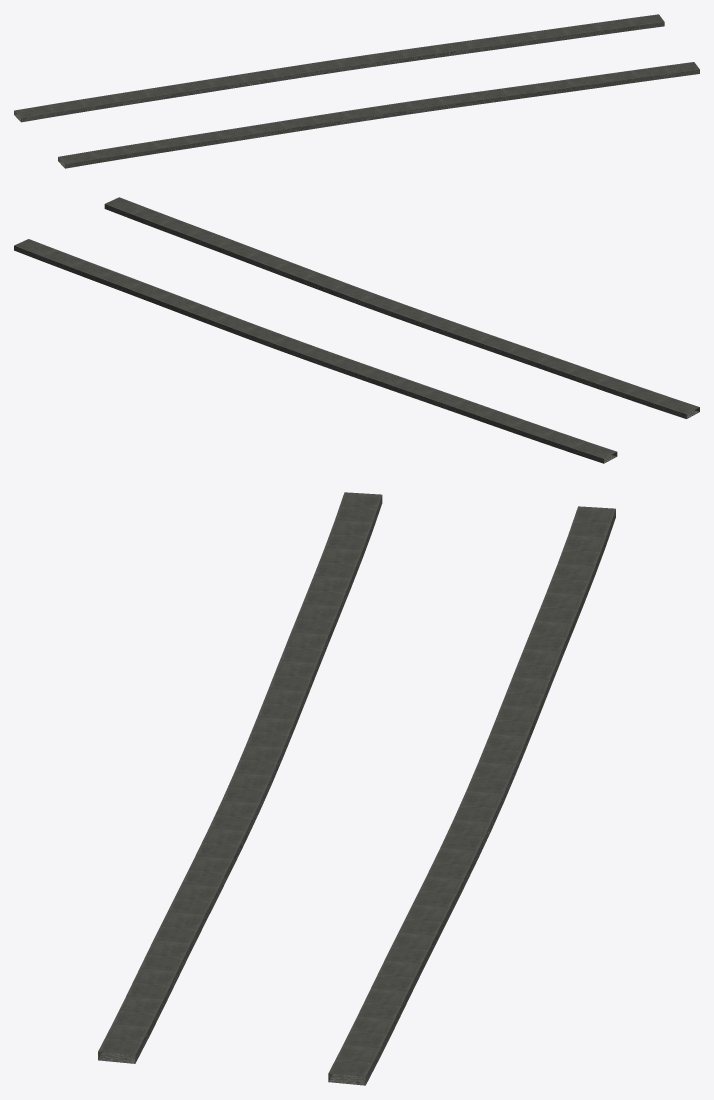
Rendered from SM_SideWalk_04.fbx.
3 views of the same model, one above another, from view 1: azimuth 30°, elevation 25°; view 2: azimuth 150°, elevation 25°; view 3: azimuth 270°, elevation 25° (orthographic). The views are drawn at different scales.
Parts seen in each view (by area): view 1: SM_SideWalk_04; view 2: SM_SideWalk_04; view 3: SM_SideWalk_04.
Boxes of the visible parts, box(x1,y1,x2,y2) form: SM_SideWalk_04: box(14, 14, 699, 168); SM_SideWalk_04: box(14, 197, 699, 463); SM_SideWalk_04: box(98, 492, 615, 1085).
Bounding box in the file's own units: 10845 × 4061 × 74.97.
1 material, 1 textured.
